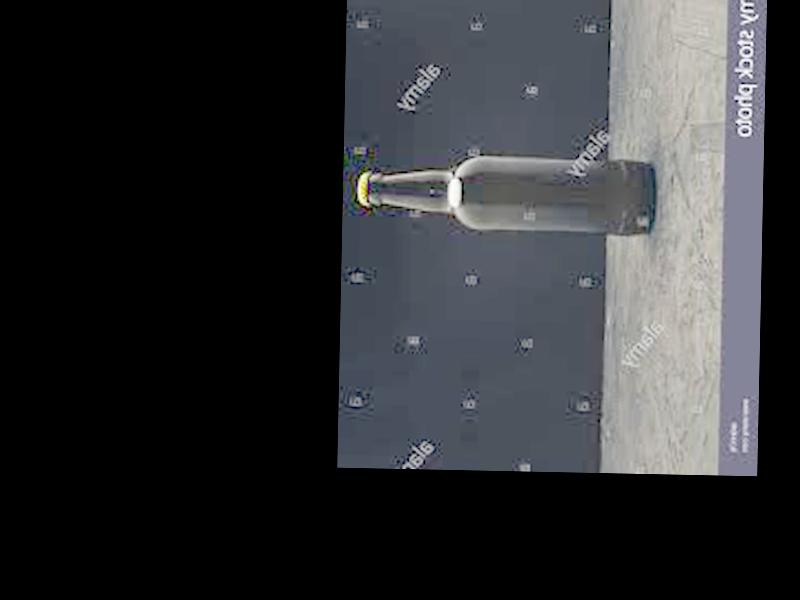Beer: (357, 160, 654, 235)
